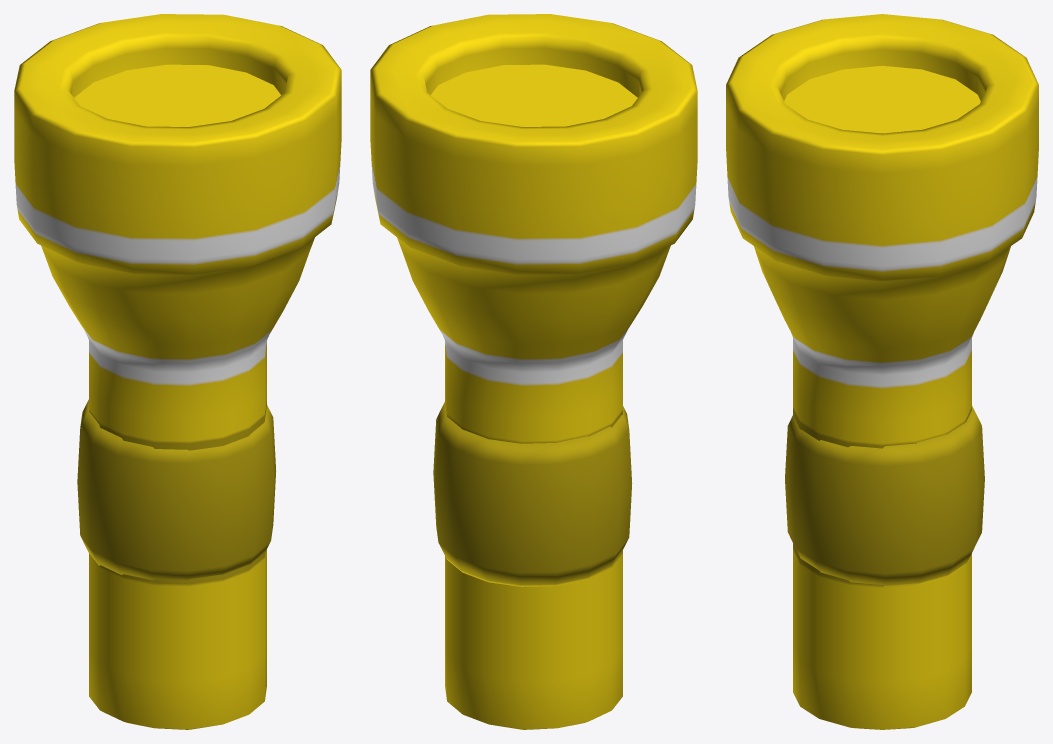
Rendered from linterna.fbx.
3 renders of one model, left to right at view 1: azimuth 30°, elevation 25°; view 2: azimuth 150°, elevation 25°; view 3: azimuth 270°, elevation 25°, orthographic.
Parts seen in each view (by area): view 1: polySurface1; view 2: polySurface1; view 3: polySurface1.
Part boxes in pixels (bbox=[...]): polySurface1: bbox=[14, 14, 341, 729]; polySurface1: bbox=[370, 14, 697, 729]; polySurface1: bbox=[726, 14, 1038, 729].
Size of the model in its own units: 4.18 by 8.5 by 3.92.
